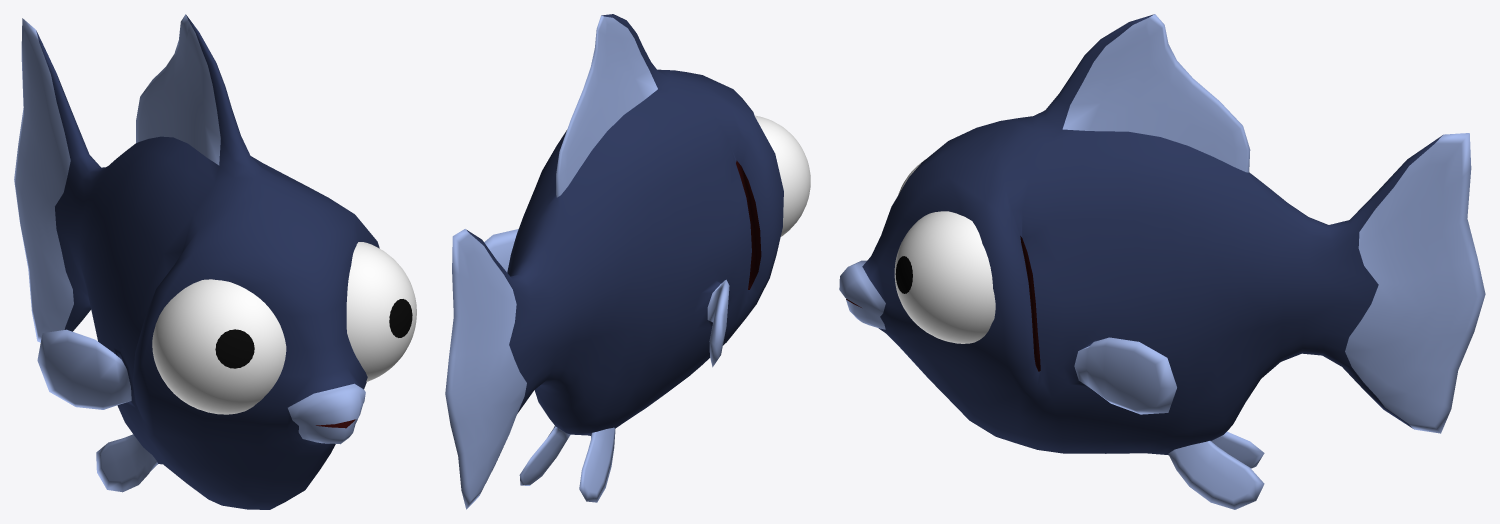
File: fish.FBX
The picture shows the model from 3 angles, left to right: view 1: azimuth 30°, elevation 25°; view 2: azimuth 150°, elevation 25°; view 3: azimuth 270°, elevation 25°; orthographic projection. The views are drawn at different scales.
Visible parts, largest first — view 1: fish, right_eye_fish, left_eye_fish; view 2: fish, right_eye_fish; view 3: fish, left_eye_fish.
Part boxes in pixels (box(x1,y1,x2,y2)): fish: box(14, 14, 379, 509); right_eye_fish: box(152, 279, 286, 414); left_eye_fish: box(346, 242, 416, 381); fish: box(445, 14, 783, 509); right_eye_fish: box(755, 115, 810, 236); fish: box(839, 14, 1485, 509); left_eye_fish: box(894, 211, 995, 343).
Bounding box in the file's own units: 0.377 × 0.8006 × 0.6542.
